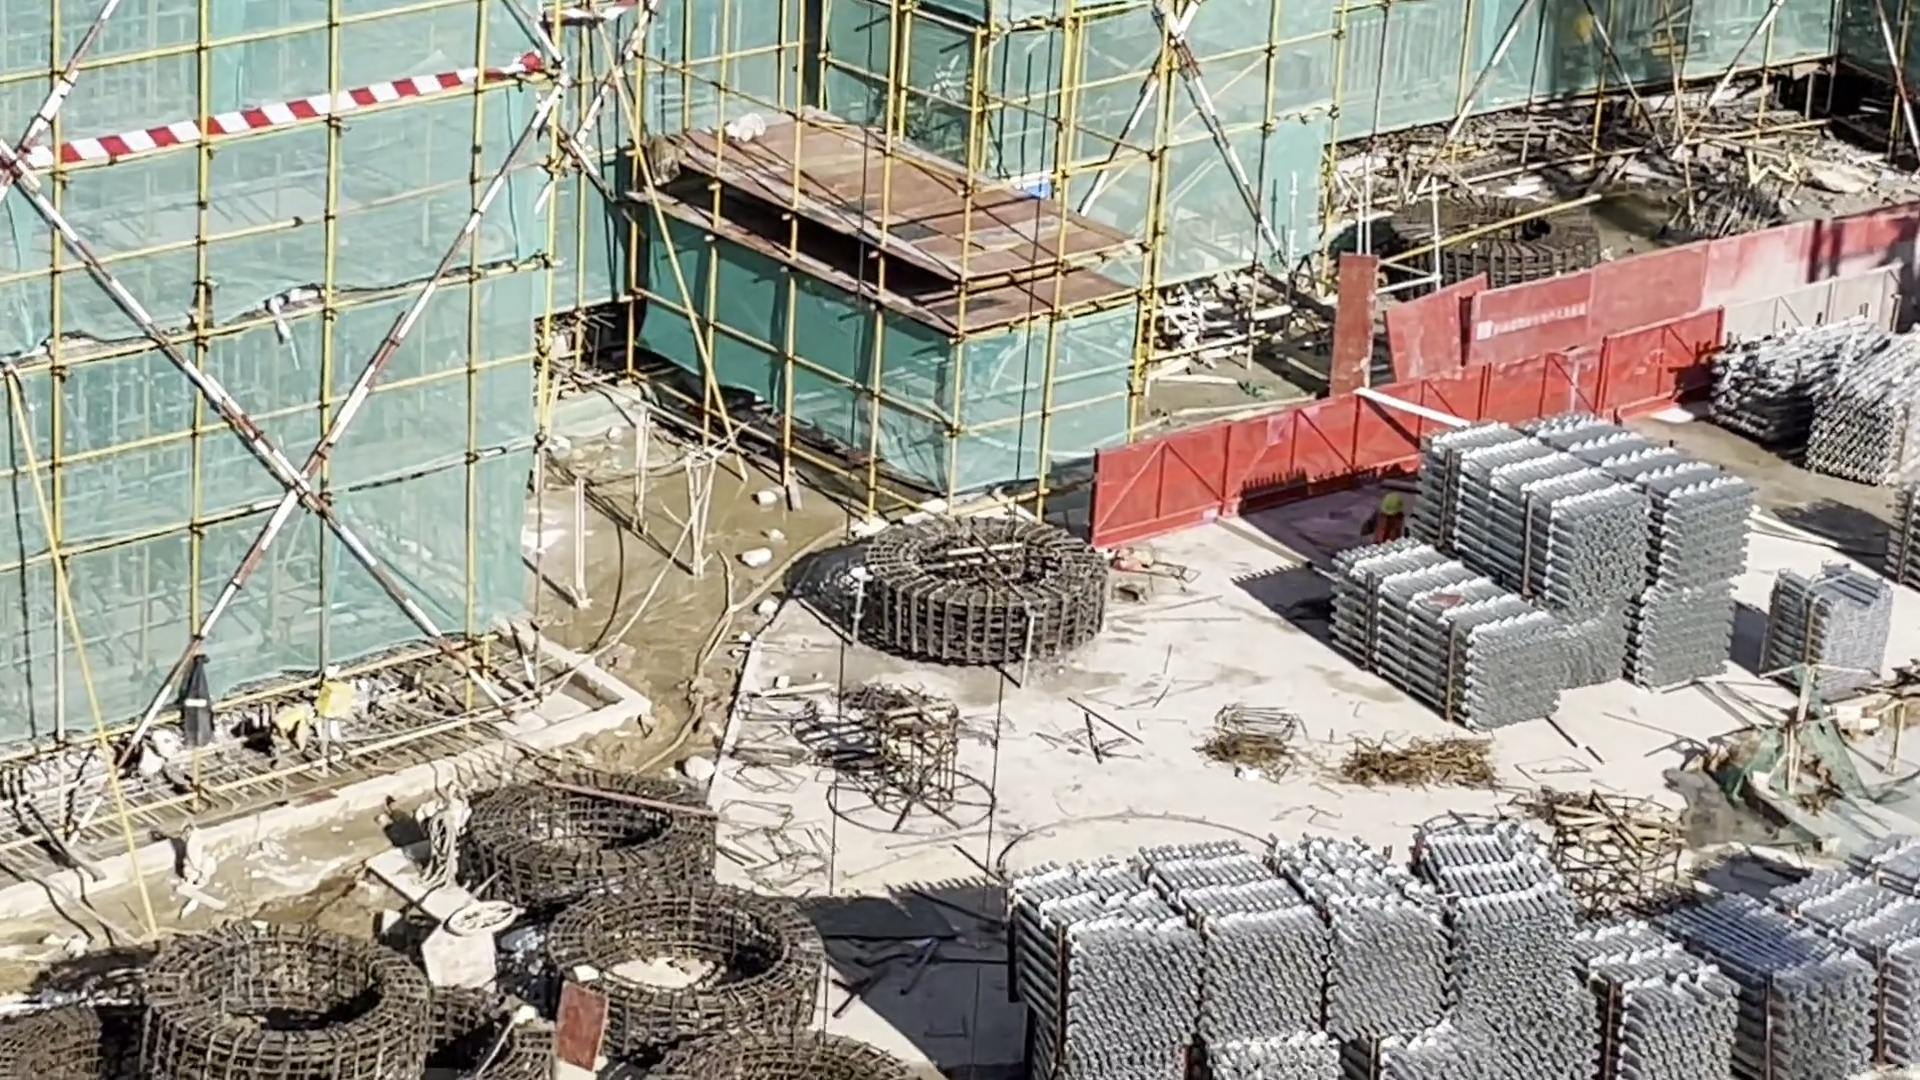fence: (1097, 259, 1920, 551)
helmet: (1382, 486, 1415, 520)
person: (1358, 485, 1402, 543)
scaffold: (985, 859, 1919, 1080), (1317, 412, 1759, 717), (1714, 304, 1920, 487), (1763, 558, 1891, 705)
